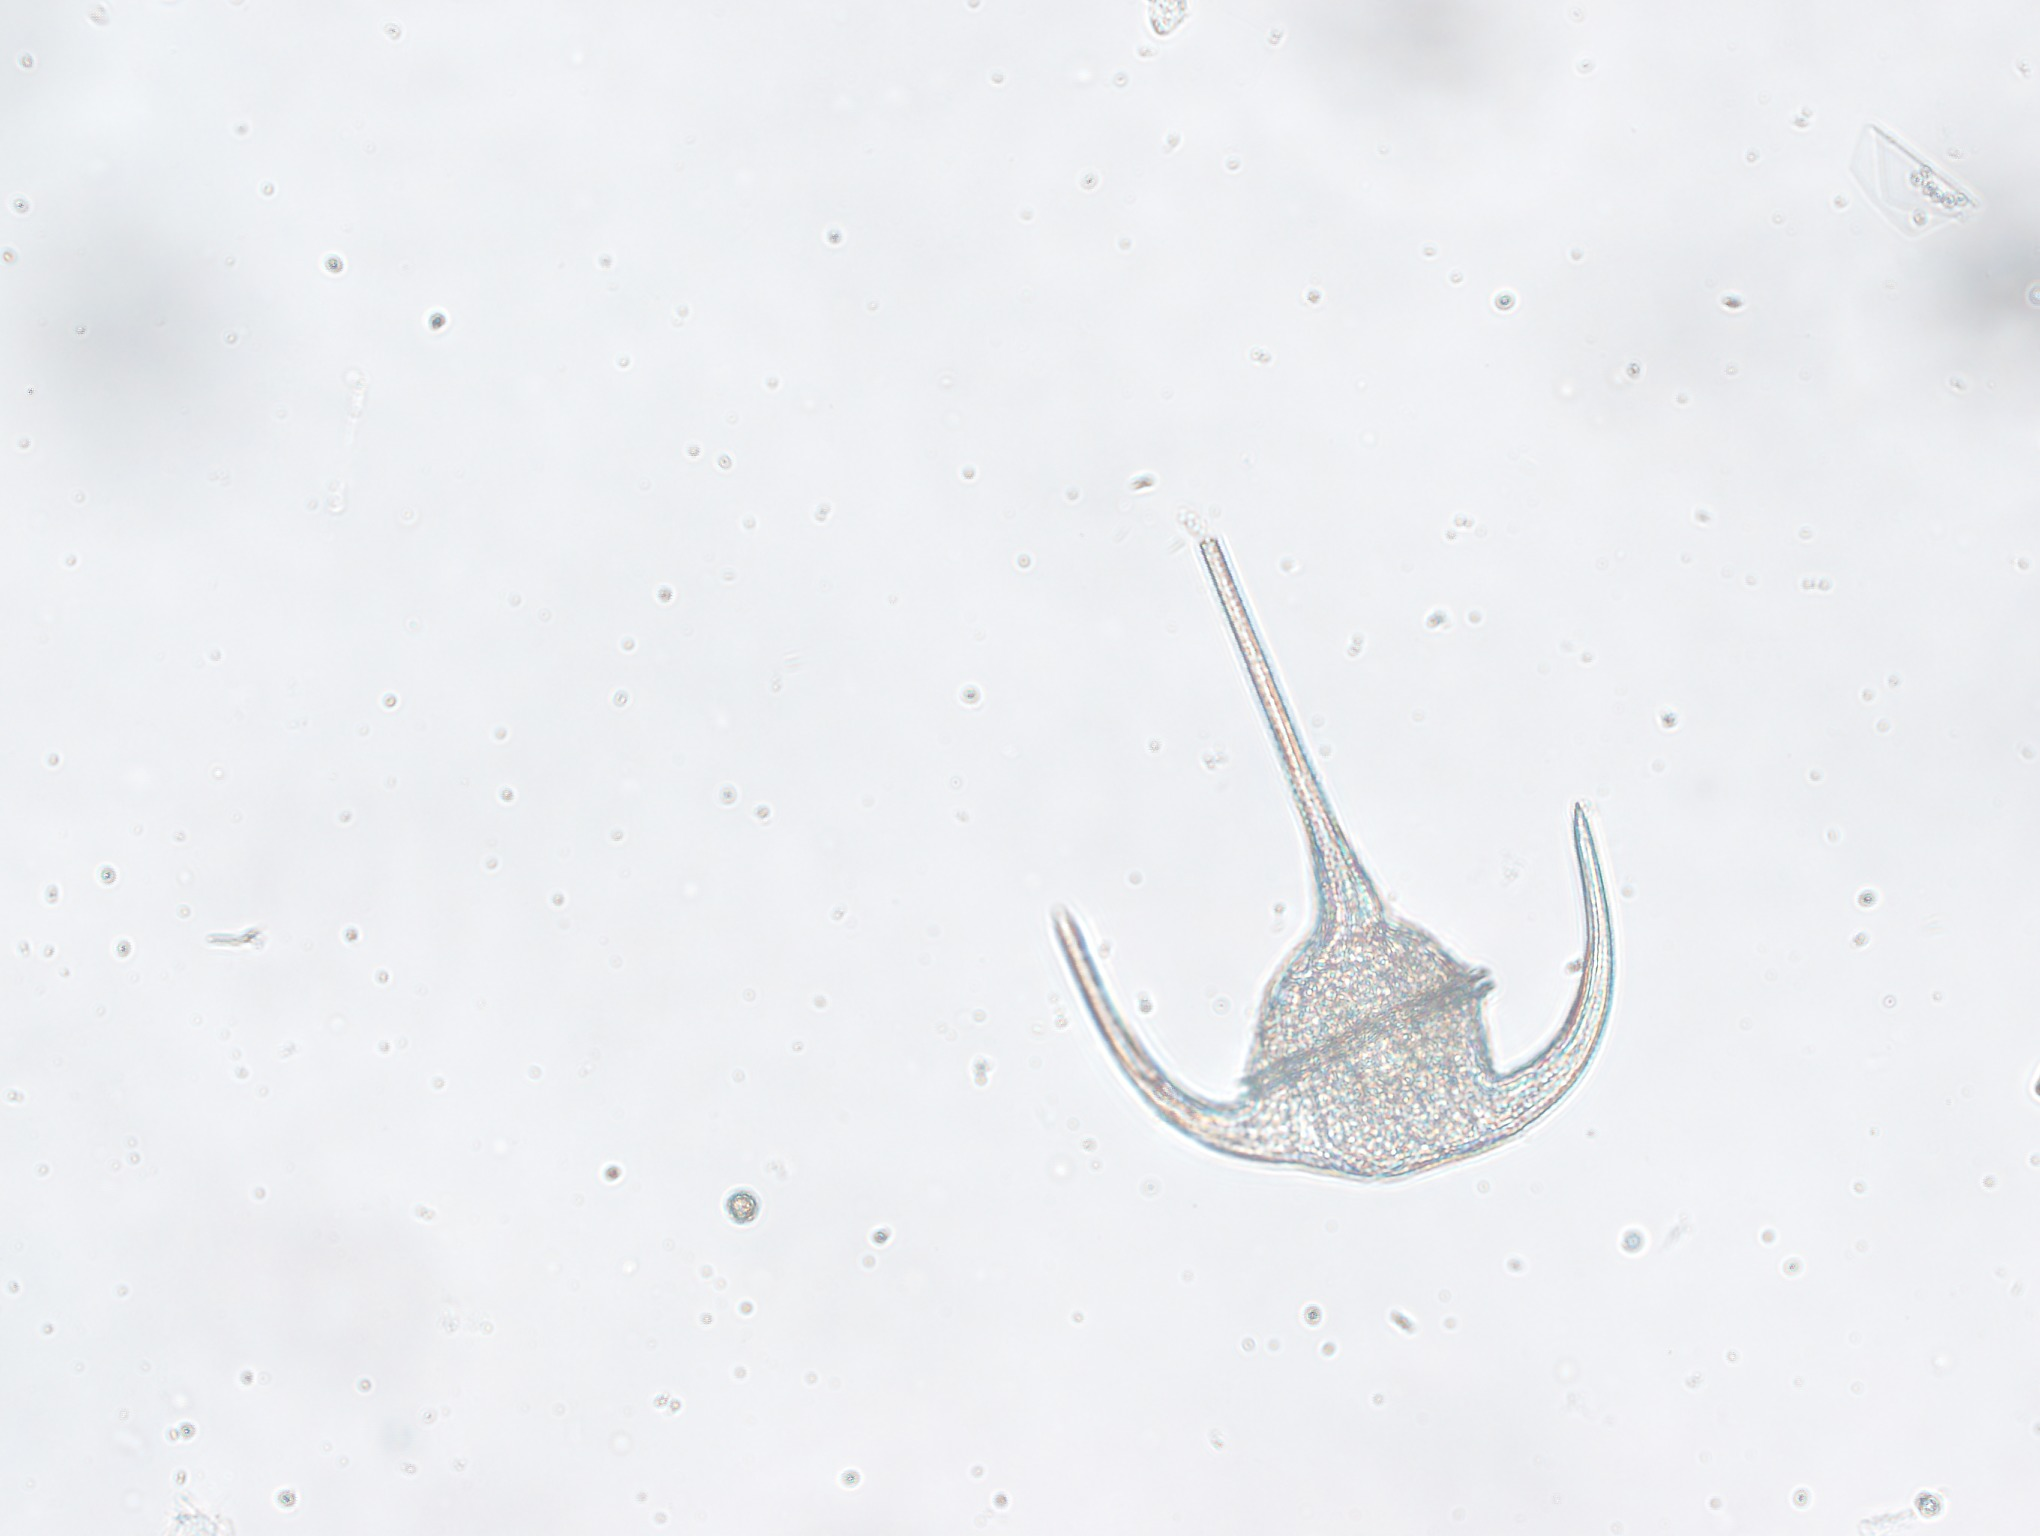ceratium tripos: (1024, 536, 1655, 1192)
